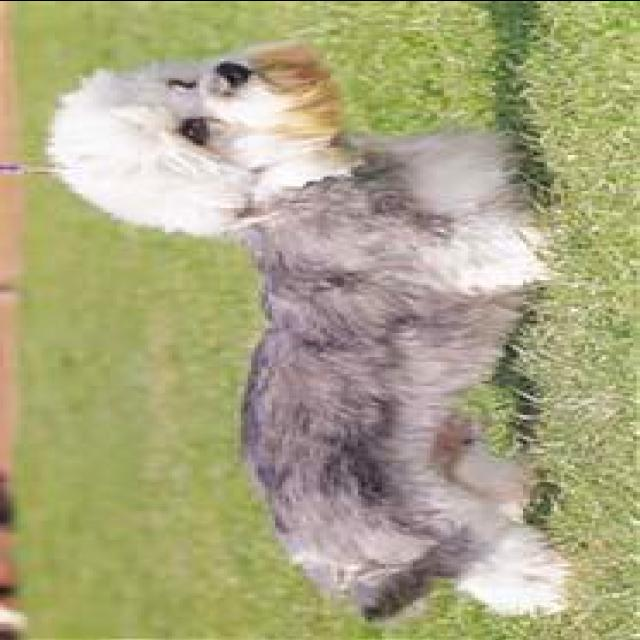dandie_dinmont: (41, 33, 571, 632)
